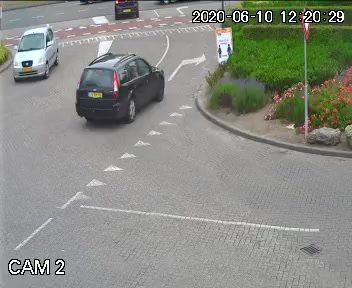car: (76, 48, 169, 129), (10, 25, 62, 83), (109, 0, 138, 23)
